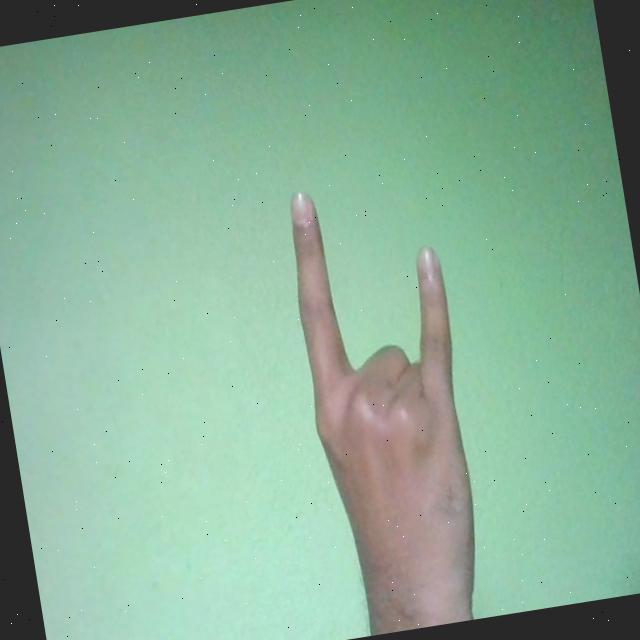open Plam: (277, 166, 498, 640)
